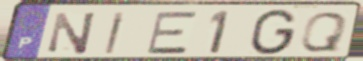1: (207, 9, 231, 56)
E: (144, 10, 199, 56)
G: (247, 8, 300, 57)
I: (103, 11, 128, 56)
N: (46, 10, 99, 56)
Q: (297, 11, 351, 54)
